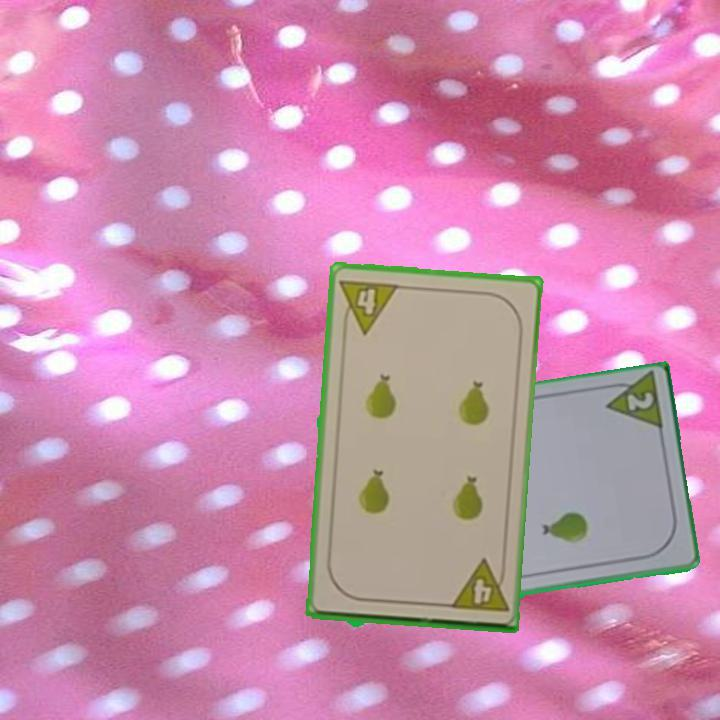2p: (622, 389, 656, 415)
4p: (336, 275, 402, 337), (446, 556, 511, 615)
